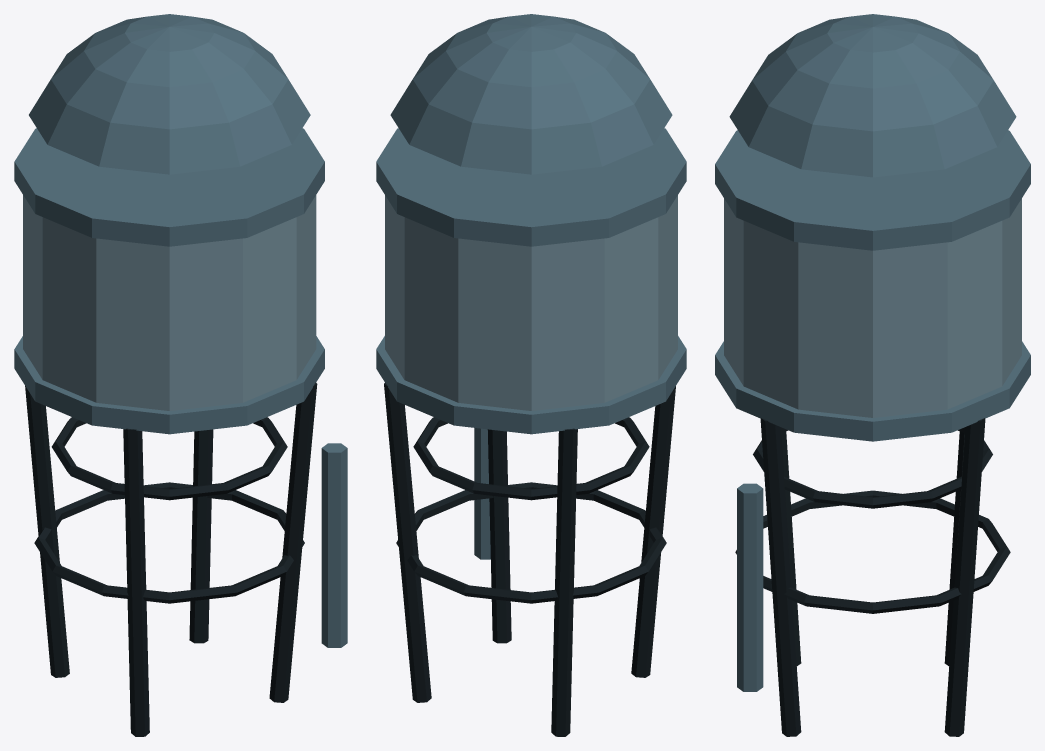
The model's file is bon_nuoc.glb.
3 renders of one model, left to right at view 1: azimuth 30°, elevation 25°; view 2: azimuth 150°, elevation 25°; view 3: azimuth 270°, elevation 25°, orthographic.
Bounding box in the file's own units: 0.72 × 1.69 × 0.72.
